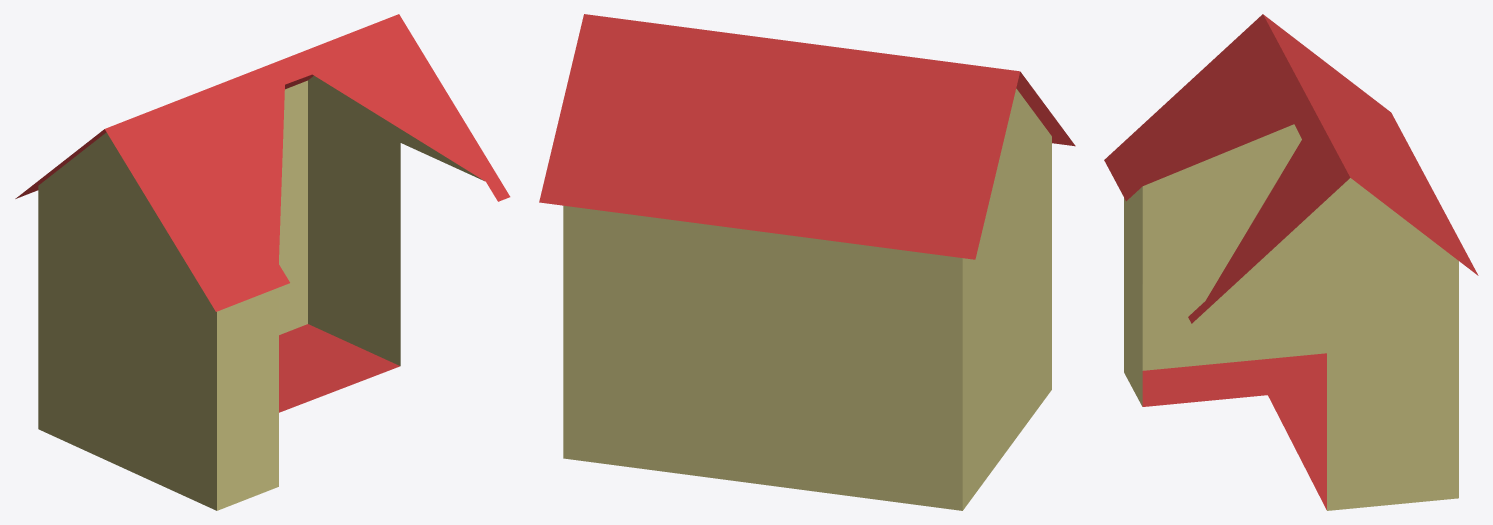
The picture shows the model from 3 angles, left to right: view 1: azimuth 30°, elevation 25°; view 2: azimuth 150°, elevation 25°; view 3: azimuth 270°, elevation 25°; orthographic projection. The views are drawn at different scales.
Size of the model in its own units: 13.52 by 11.19 by 11.14.
